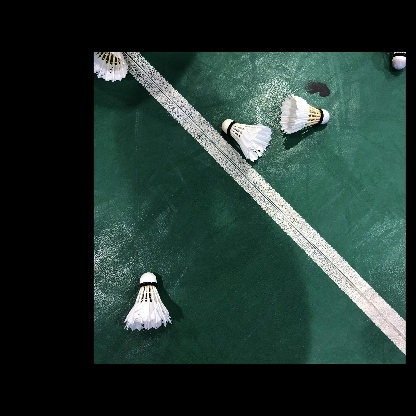ball_single: (124, 272, 172, 331), (222, 119, 272, 162), (279, 94, 329, 134), (94, 52, 128, 82), (392, 52, 406, 70)
